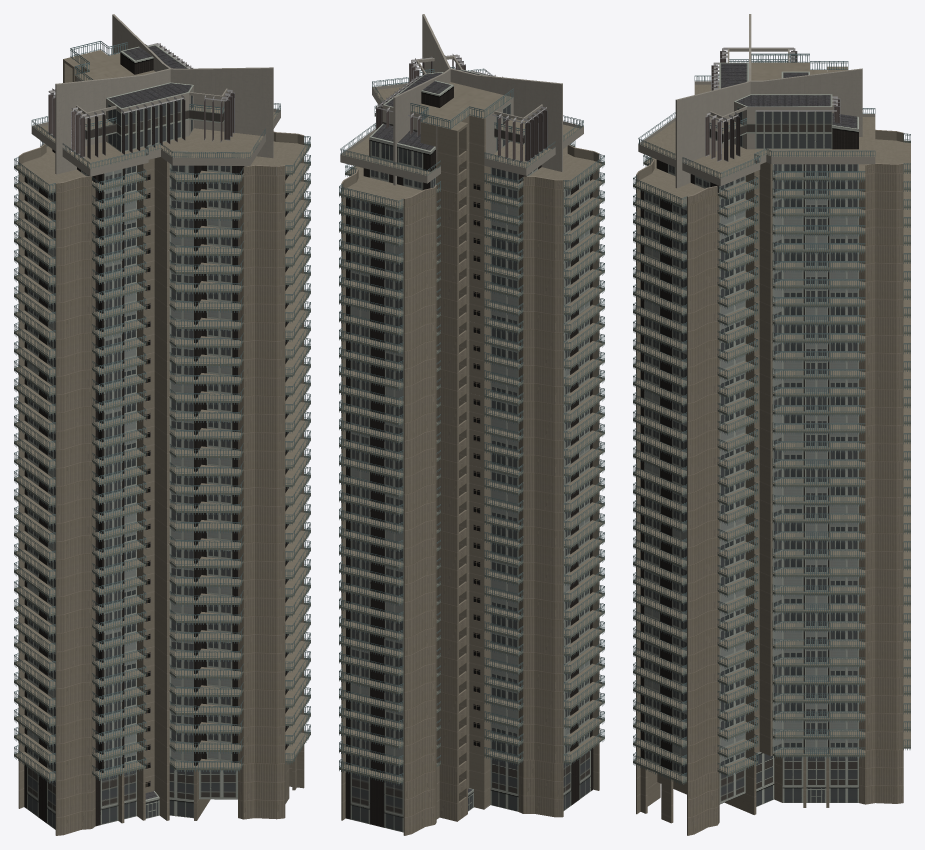
The model's file is millefiori.fbx.
The picture shows the model from 3 angles, left to right: view 1: azimuth 30°, elevation 25°; view 2: azimuth 150°, elevation 25°; view 3: azimuth 270°, elevation 25°; orthographic projection. The views are drawn at different scales.
Parts seen in each view (by area): view 1: Object003; view 2: Object003; view 3: Object003.
Part boxes in pixels (x1,y1,x2,y2): Object003: (14, 14, 310, 835); Object003: (339, 14, 604, 835); Object003: (633, 14, 910, 835).
Size of the model in its own units: 3913 by 11170 by 3914.
